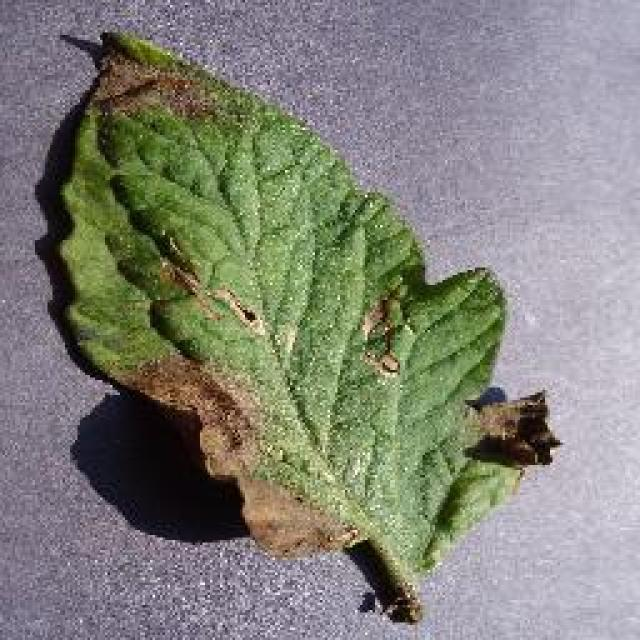Tomato___Late_blight: (35, 30, 560, 625)
